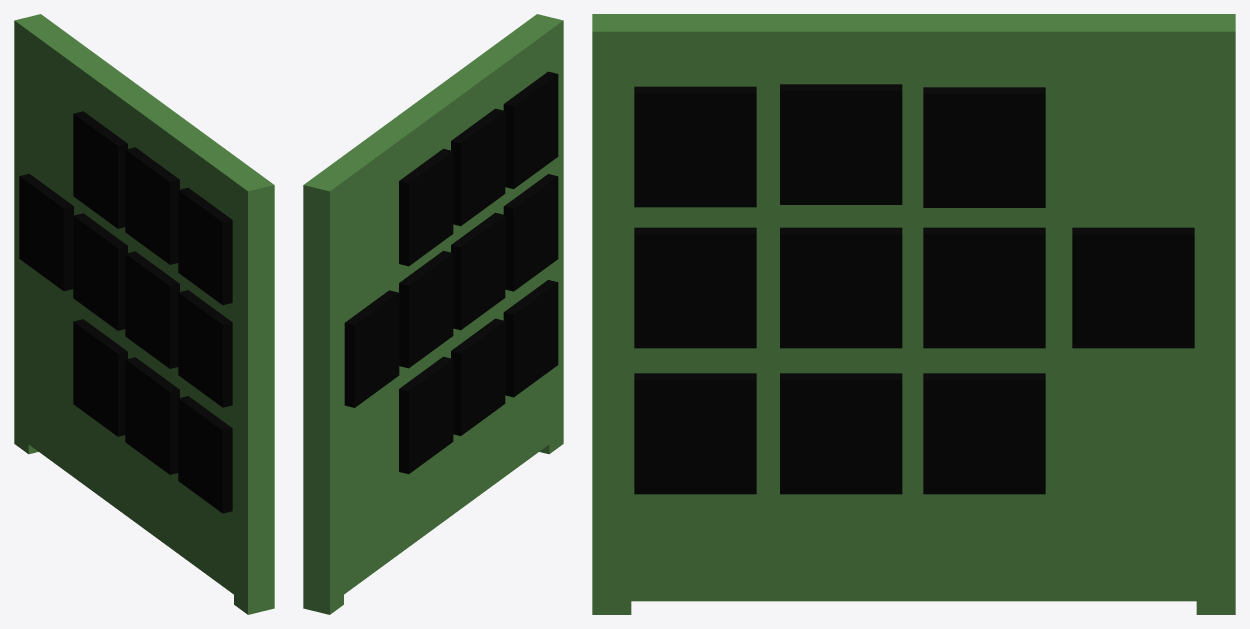
File: imagerotation_mdl.fbx
3 views of the same model, side by side, from view 1: azimuth 30°, elevation 25°; view 2: azimuth 150°, elevation 25°; view 3: azimuth 270°, elevation 25° (orthographic). The views are drawn at different scales.
Parts seen in each view (by area): view 1: imagerotationbase, imagerotationpiece7, imagerotationpiece1, imagerotationpiece4, imagerotationpicture, imagerotationpiece2, imagerotationpiece5, imagerotationpiece8, imagerotationpiece6, imagerotationpiece9, imagerotationpiece3; view 2: imagerotationbase, imagerotationpicture, imagerotationpiece6, imagerotationpiece3, imagerotationpiece9, imagerotationpiece7, imagerotationpiece1, imagerotationpiece4, imagerotationpiece2, imagerotationpiece5, imagerotationpiece8; view 3: imagerotationbase, imagerotationpicture, imagerotationpiece1, imagerotationpiece4, imagerotationpiece6, imagerotationpiece7, imagerotationpiece9, imagerotationpiece8, imagerotationpiece5, imagerotationpiece2, imagerotationpiece3.
Boxes of the visible parts, x1=… form: imagerotationbase: x1=14, y1=14, x2=274, y2=614; imagerotationpiece7: x1=178, y1=396, x2=232, y2=513; imagerotationpiece1: x1=178, y1=187, x2=232, y2=305; imagerotationpiece4: x1=178, y1=290, x2=232, y2=407; imagerotationpicture: x1=19, y1=173, x2=73, y2=291; imagerotationpiece2: x1=125, y1=147, x2=179, y2=264; imagerotationpiece5: x1=125, y1=251, x2=179, y2=368; imagerotationpiece8: x1=125, y1=357, x2=179, y2=474; imagerotationpiece6: x1=73, y1=213, x2=127, y2=330; imagerotationpiece9: x1=73, y1=319, x2=127, y2=436; imagerotationpiece3: x1=73, y1=111, x2=127, y2=228; imagerotationbase: x1=303, y1=14, x2=563, y2=614; imagerotationpicture: x1=344, y1=290, x2=399, y2=407; imagerotationpiece6: x1=399, y1=250, x2=453, y2=368; imagerotationpiece3: x1=399, y1=148, x2=453, y2=266; imagerotationpiece9: x1=399, y1=356, x2=453, y2=474; imagerotationpiece7: x1=503, y1=280, x2=558, y2=397; imagerotationpiece1: x1=503, y1=71, x2=558, y2=189; imagerotationpiece4: x1=503, y1=174, x2=558, y2=291; imagerotationpiece2: x1=451, y1=108, x2=505, y2=226; imagerotationpiece5: x1=451, y1=212, x2=505, y2=330; imagerotationpiece8: x1=451, y1=318, x2=505, y2=435; imagerotationbase: x1=592, y1=14, x2=1235, y2=614; imagerotationpicture: x1=1072, y1=227, x2=1194, y2=348; imagerotationpiece1: x1=634, y1=86, x2=756, y2=207; imagerotationpiece4: x1=634, y1=227, x2=756, y2=348; imagerotationpiece6: x1=923, y1=227, x2=1045, y2=348; imagerotationpiece7: x1=634, y1=373, x2=756, y2=494; imagerotationpiece9: x1=923, y1=373, x2=1045, y2=494; imagerotationpiece8: x1=780, y1=373, x2=902, y2=494; imagerotationpiece5: x1=780, y1=227, x2=902, y2=348; imagerotationpiece2: x1=780, y1=84, x2=902, y2=204; imagerotationpiece3: x1=923, y1=87, x2=1045, y2=207.
Bounding box in the file's own units: 0.3443 × 3 × 3.
